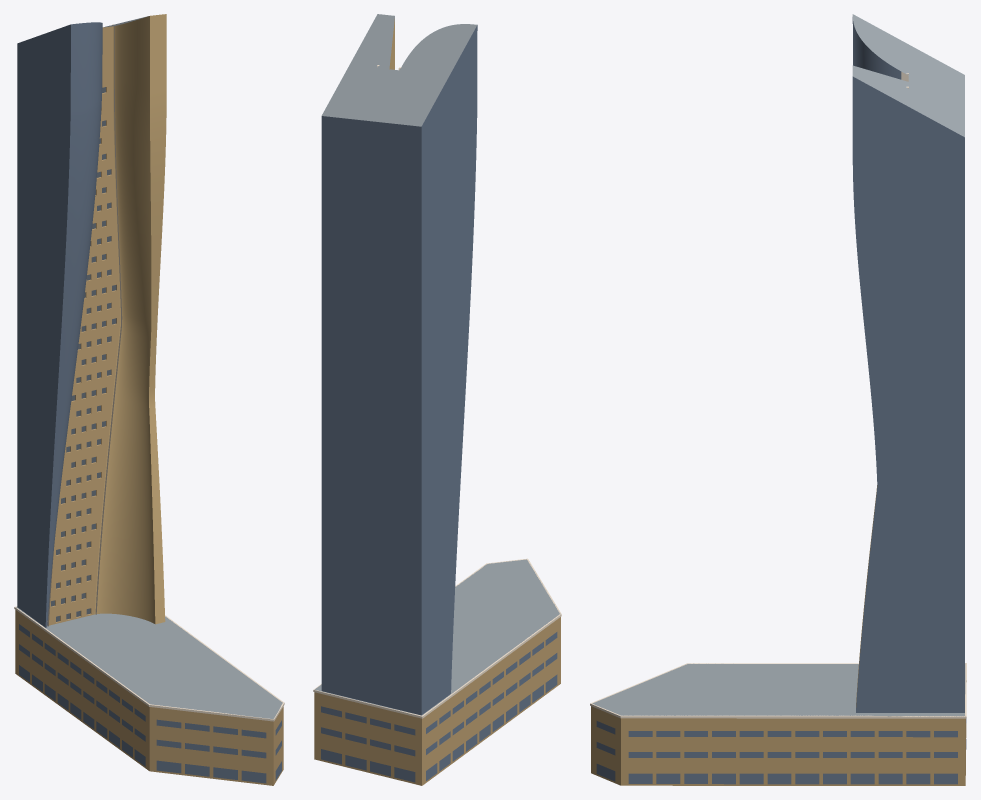
The model's file is kuwait-al-hamra-tower.detail.glb.
3 renders of one model, left to right at view 1: azimuth 30°, elevation 25°; view 2: azimuth 150°, elevation 25°; view 3: azimuth 270°, elevation 25°, orthographic. The views are drawn at different scales.
Visible parts, largest first — view 1: Al Hamra Tower; view 2: Al Hamra Tower; view 3: Al Hamra Tower.
Part boxes in pixels (bbox=[...]): Al Hamra Tower: bbox=[14, 14, 284, 785]; Al Hamra Tower: bbox=[313, 14, 561, 785]; Al Hamra Tower: bbox=[590, 14, 966, 785].
Bounding box in the file's own units: 65.67 × 413 × 196.
